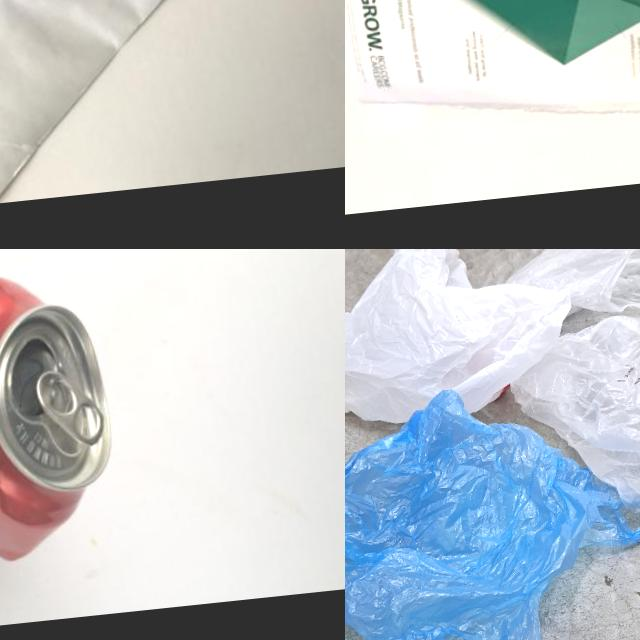aba de lata: (32, 365, 108, 452)
lata: (0, 257, 124, 574)
papel: (0, 0, 308, 223), (345, 0, 640, 150)
sacola plástica: (345, 367, 640, 640), (345, 249, 579, 433), (504, 304, 640, 576), (497, 249, 640, 326)
